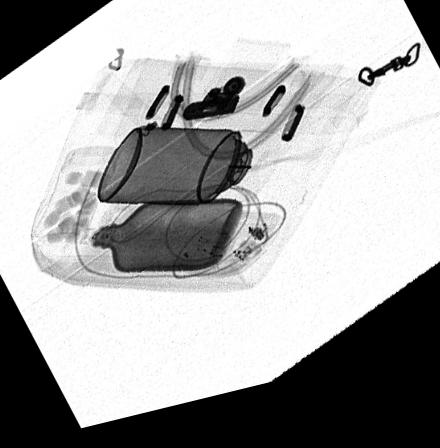Sprayer: (97, 134, 282, 217)
